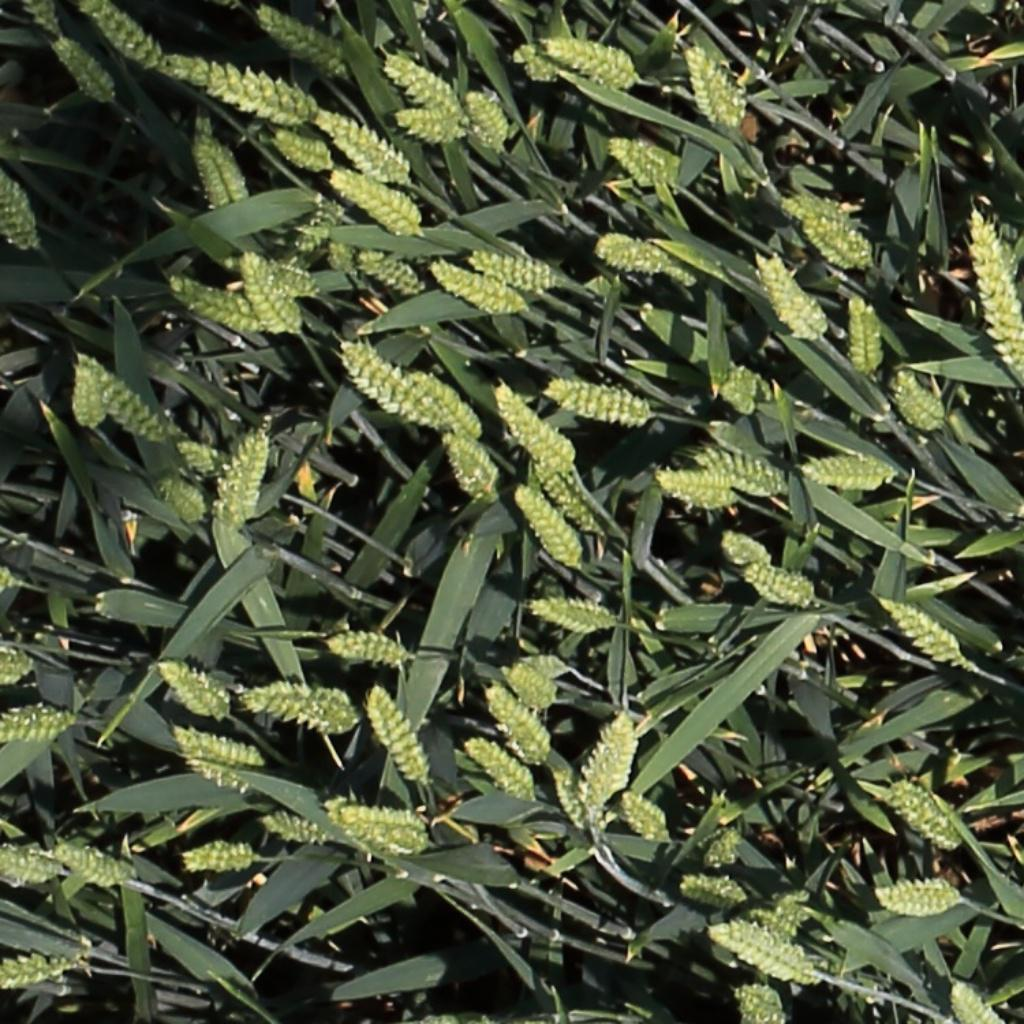0-0: (158, 49, 322, 128), (335, 341, 453, 432), (72, 345, 175, 441), (968, 208, 1024, 379), (314, 105, 417, 190), (707, 920, 828, 987), (579, 710, 643, 836), (488, 380, 574, 472), (253, 1, 351, 78), (520, 462, 593, 561), (323, 796, 437, 857), (507, 480, 581, 573), (752, 249, 826, 342), (211, 421, 274, 530), (361, 685, 428, 787), (236, 677, 360, 732), (78, 1, 171, 74), (233, 247, 307, 336), (330, 170, 426, 235), (527, 454, 602, 537), (682, 40, 751, 130), (479, 681, 550, 767), (879, 598, 965, 669), (537, 35, 643, 89), (404, 367, 481, 441), (163, 274, 262, 330), (427, 259, 528, 313), (886, 777, 961, 849), (380, 53, 462, 118), (590, 233, 694, 283), (544, 379, 652, 427), (461, 737, 533, 806), (152, 662, 232, 723), (49, 34, 116, 106), (193, 133, 254, 212), (465, 248, 565, 296), (691, 446, 784, 496), (219, 252, 318, 297), (875, 871, 968, 918), (0, 163, 46, 258), (439, 428, 498, 502), (50, 842, 134, 893), (803, 452, 902, 493), (888, 365, 947, 432), (746, 883, 821, 934), (653, 468, 743, 509), (528, 597, 620, 637), (323, 628, 416, 667), (178, 834, 262, 877), (802, 214, 868, 267), (170, 729, 259, 768), (548, 763, 593, 840), (607, 133, 674, 184), (293, 197, 347, 260), (0, 954, 84, 994), (464, 90, 514, 156), (174, 748, 245, 794), (738, 563, 813, 606), (268, 126, 338, 172), (0, 838, 63, 889), (0, 703, 76, 745), (618, 792, 673, 847), (507, 33, 557, 93), (357, 249, 425, 293), (256, 812, 334, 850), (169, 436, 232, 482), (846, 288, 877, 380), (391, 102, 462, 142), (778, 193, 856, 228), (73, 358, 108, 433), (946, 976, 998, 1024), (159, 473, 211, 521), (505, 664, 558, 710), (728, 985, 789, 1024), (697, 824, 744, 873), (712, 371, 759, 416), (497, 651, 575, 678), (675, 873, 747, 902), (719, 531, 770, 567), (21, 0, 62, 40), (1, 645, 37, 687), (0, 560, 19, 599)
